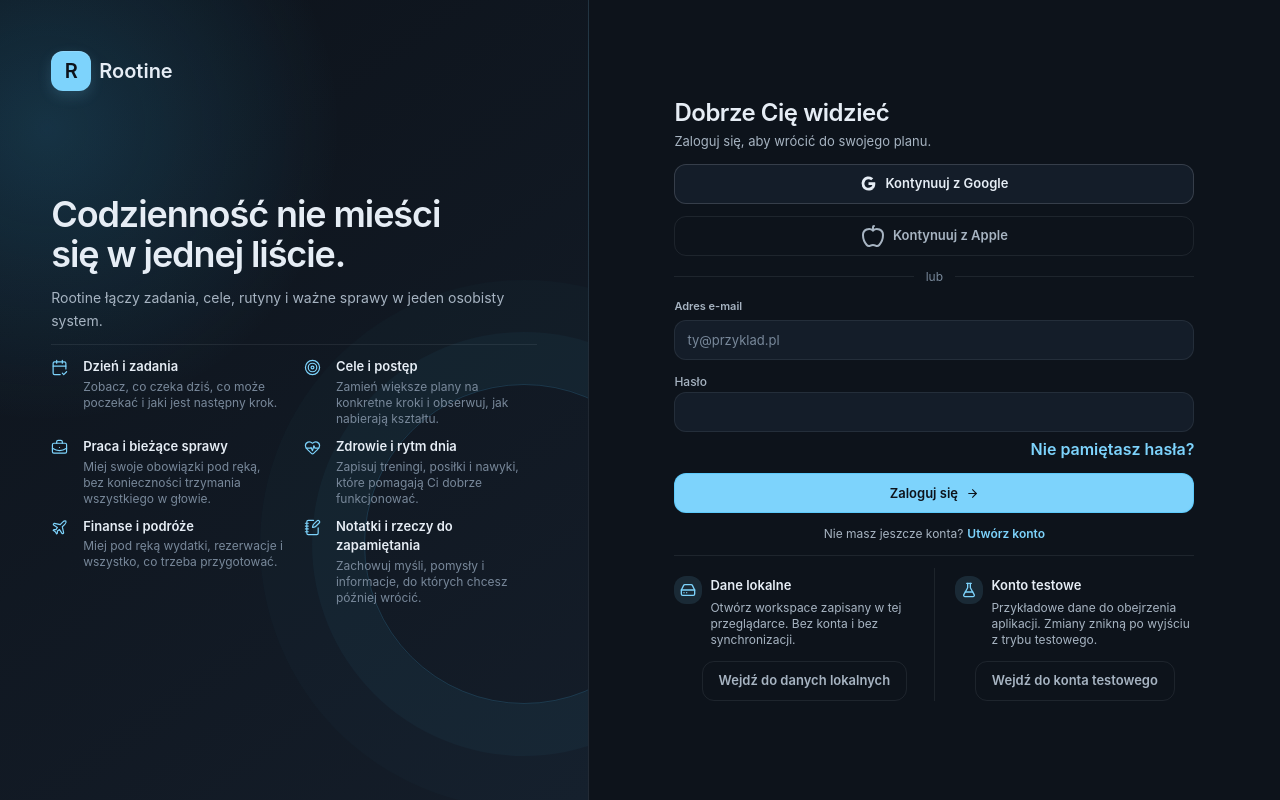
Scenario: AuthScreen › submits regular credentials and supports account creation
Type "ola@example.com" into the field labelled "Adres e-mail". click: (934, 340)
box: [674,320,1194,360]
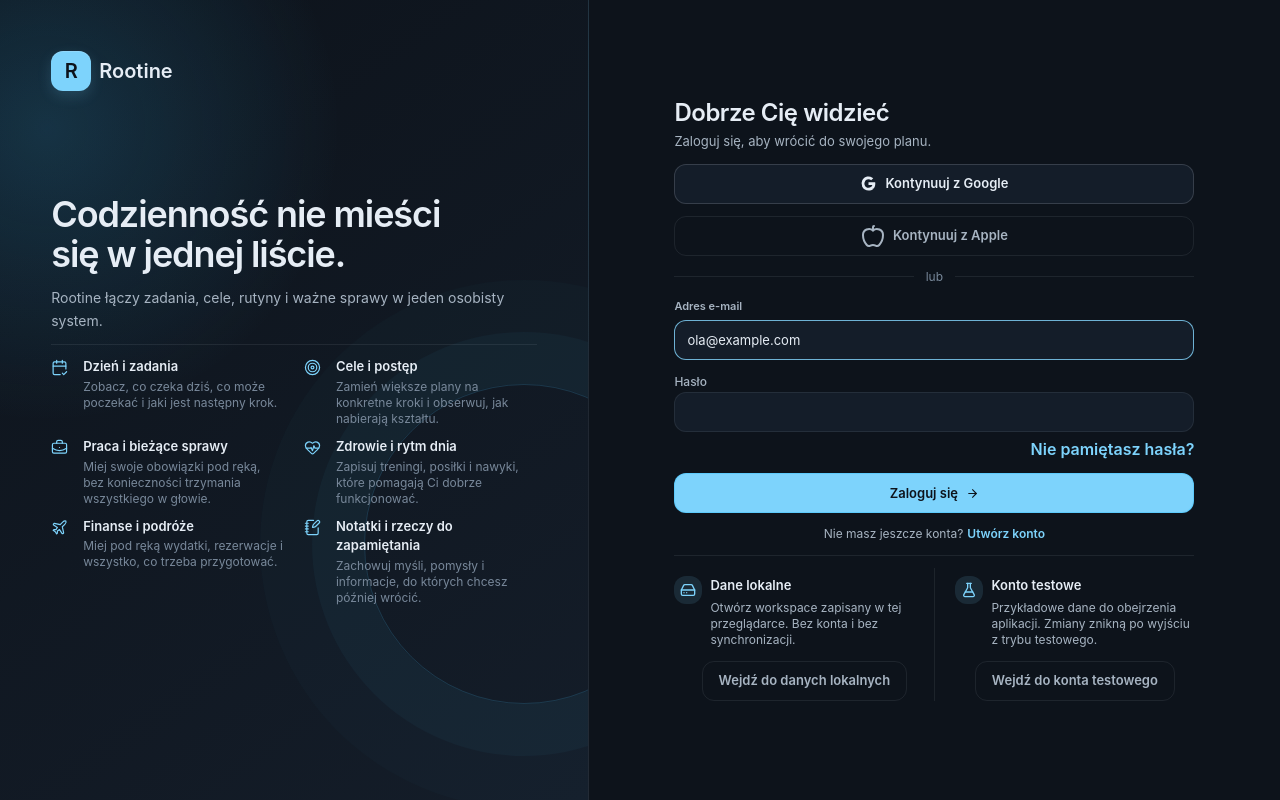
Type "sekret" into the password field named "Hasło". click: (934, 412)
box: [674,392,1194,432]
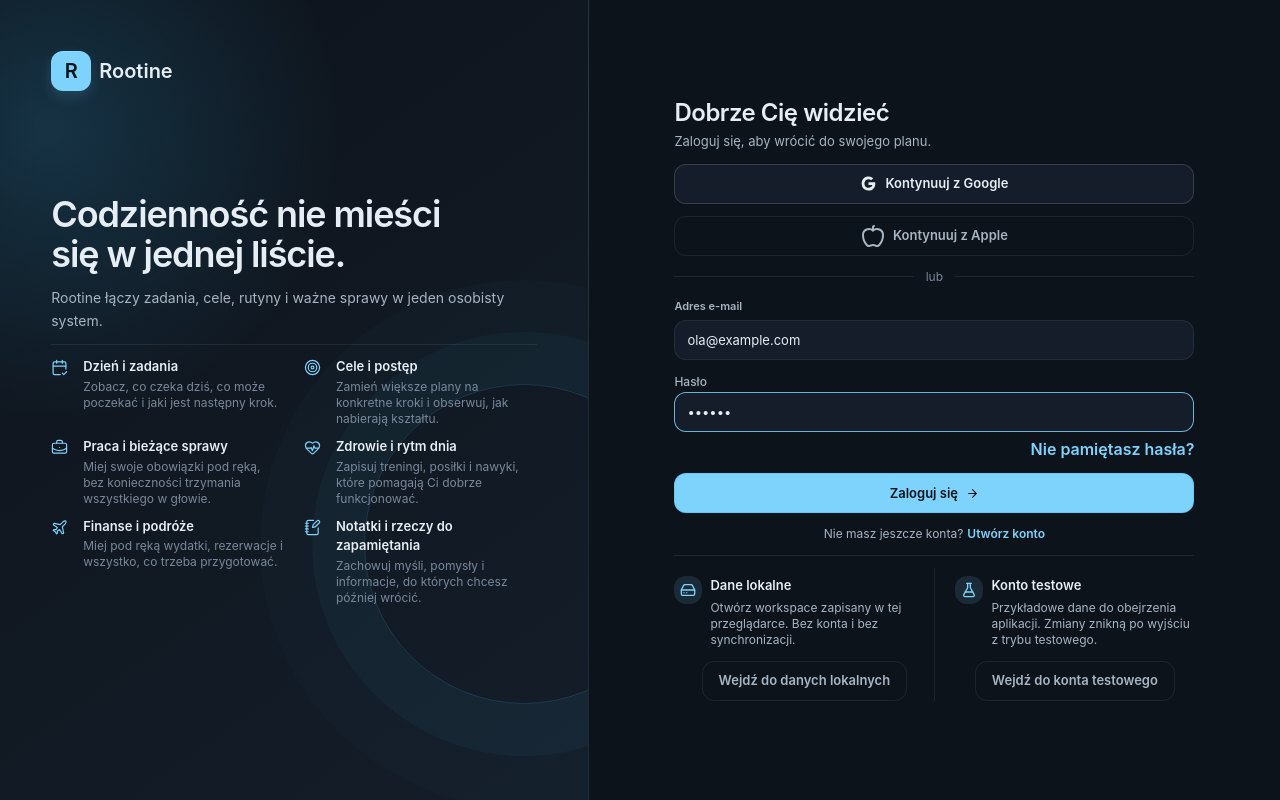
Click the button "Zaloguj się". click: (934, 494)
box: [674,474,1194,514]
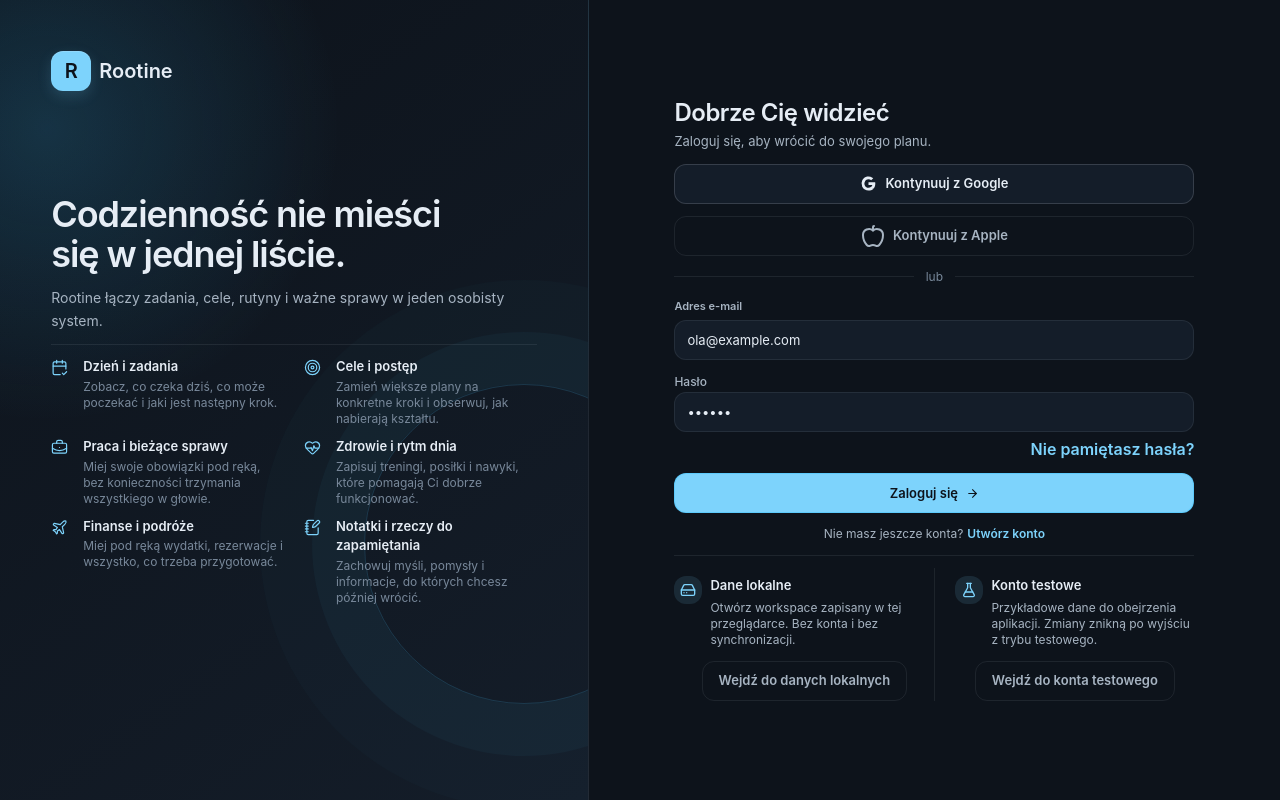
Click the button "Utwórz konto". click: (1006, 534)
box: [967,526,1045,544]
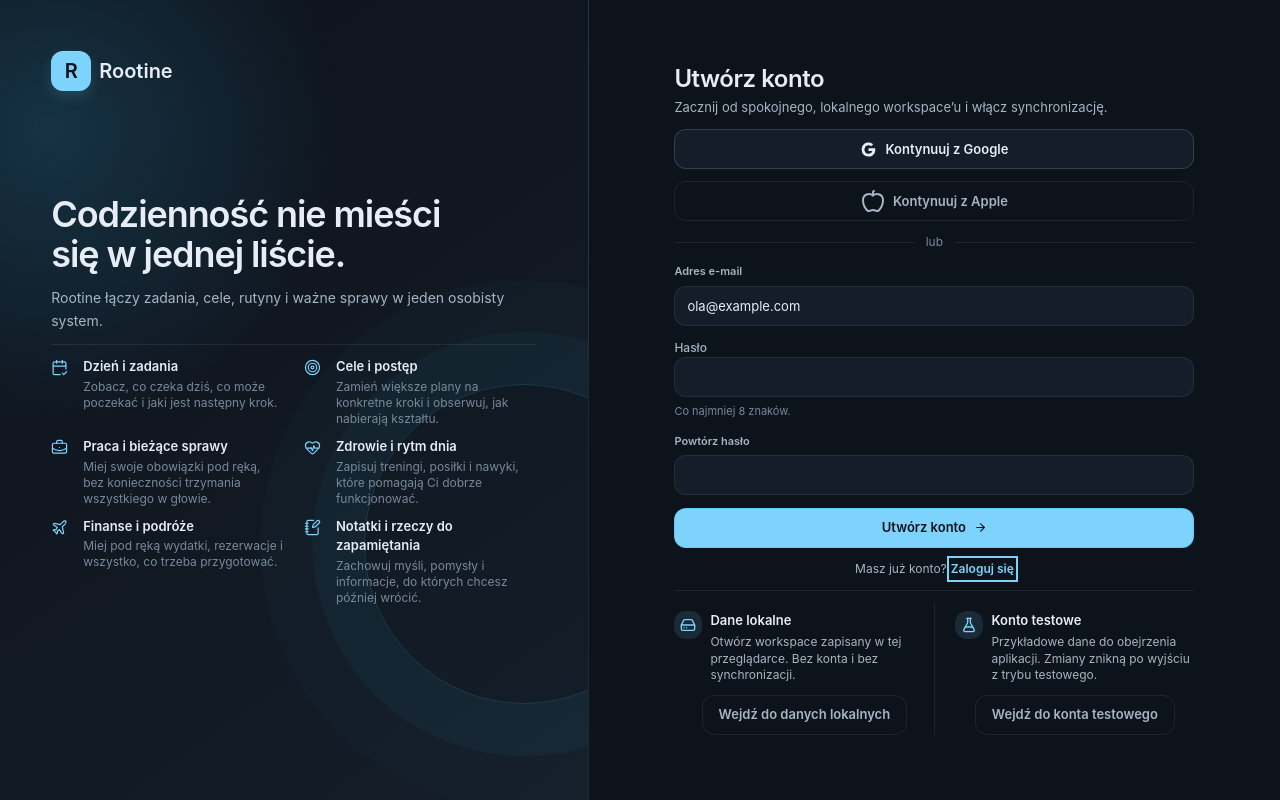
Check: the heading "Utwórz konto" is shown, box [674,64,824,93]
